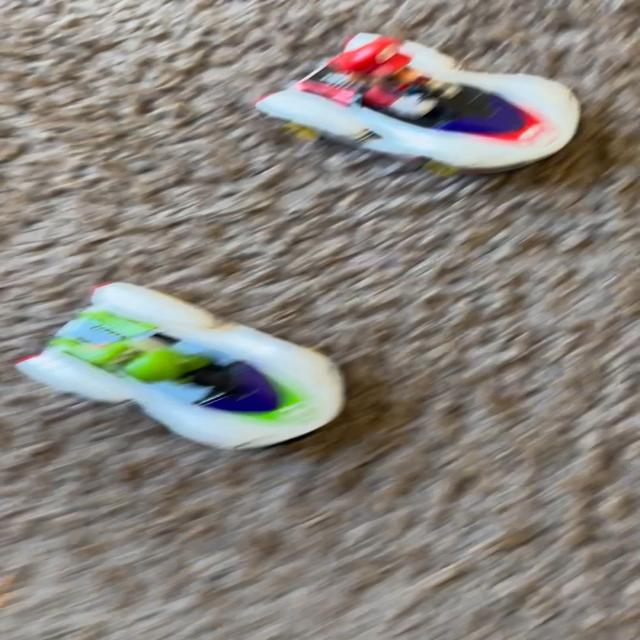mario: (240, 3, 586, 182)
yoshi: (0, 268, 373, 475)
